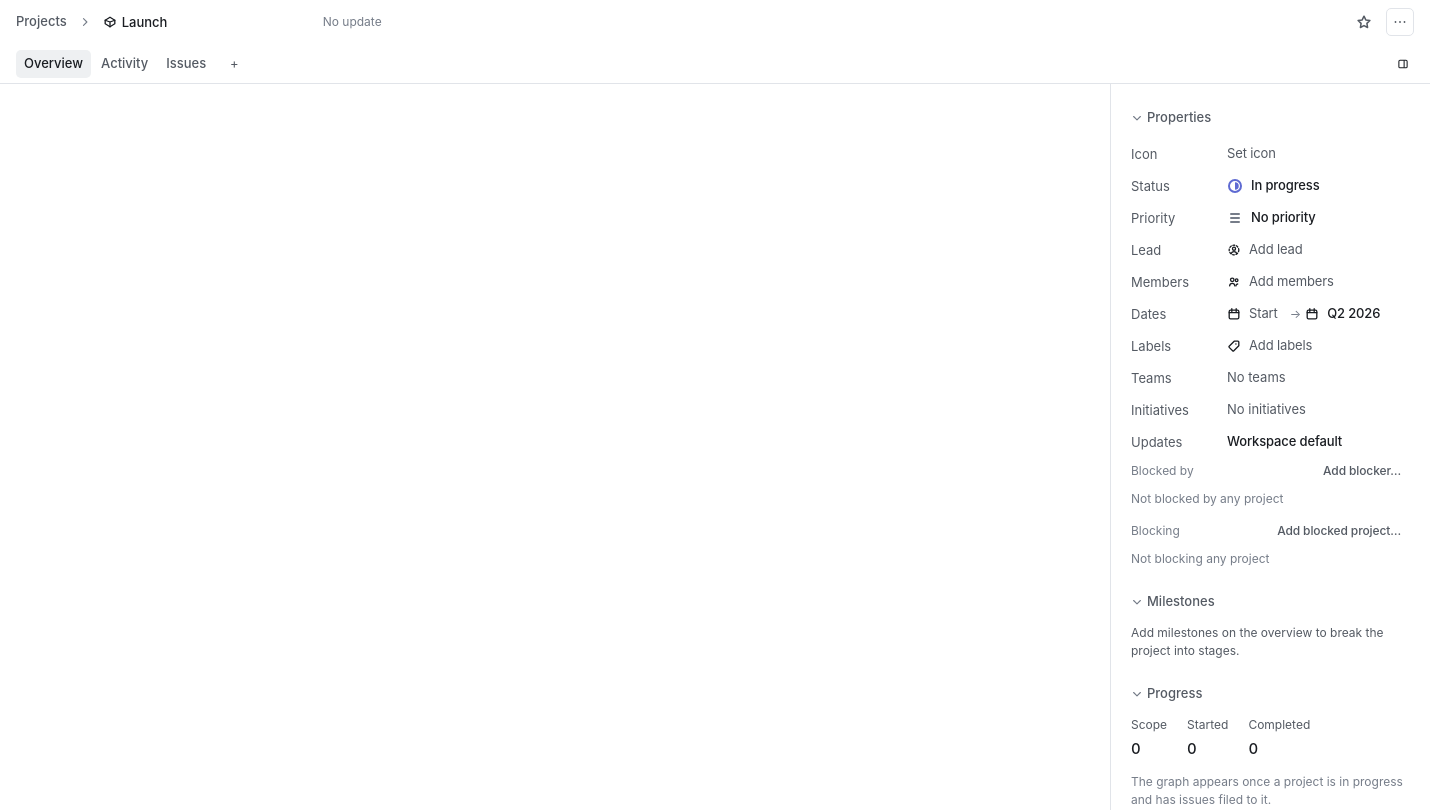
the project header › folds the rail away from the tab row, and remembers that it is folded
Click the button named "Toggle properties": (1403, 64) [1392, 52, 1414, 74]
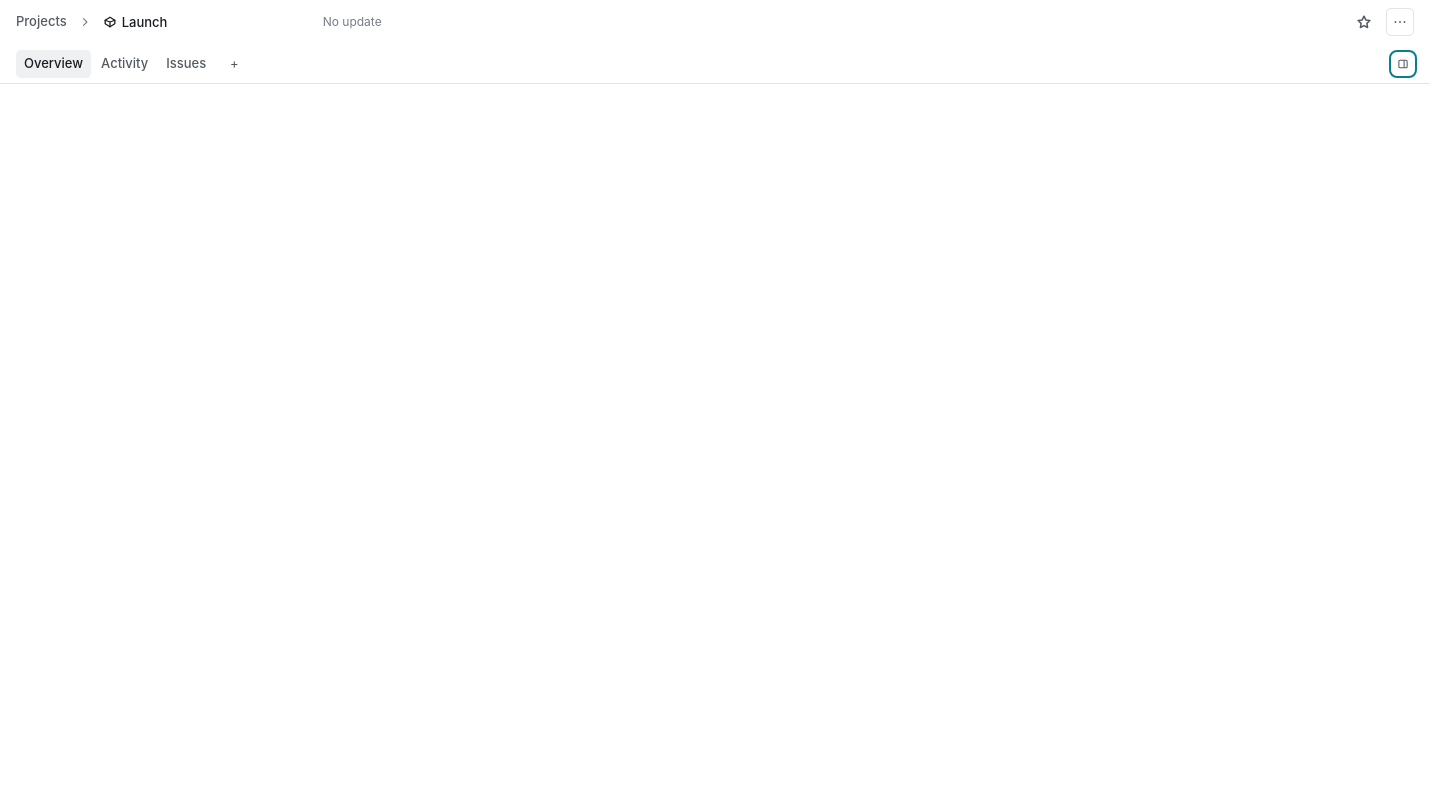
Expected: the element "Project properties" is gone
